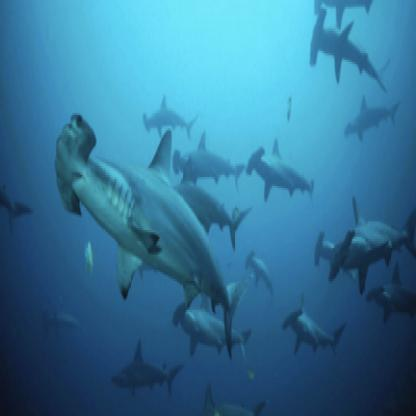Shark -Selachimorpha-: (51, 96, 246, 362), (311, 3, 396, 105), (287, 287, 356, 380), (249, 134, 321, 216)
